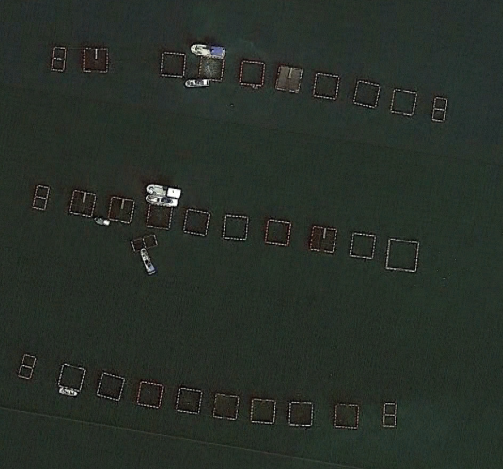ship: (134, 246, 160, 277), (186, 39, 228, 58), (144, 182, 183, 200), (140, 194, 182, 208), (182, 76, 211, 90), (92, 215, 114, 229), (56, 387, 80, 399)
square: (381, 236, 422, 277), (381, 84, 422, 120), (348, 74, 387, 110), (181, 203, 216, 242), (209, 388, 246, 424), (269, 61, 304, 97), (65, 186, 99, 222), (170, 385, 206, 419), (235, 56, 268, 92), (214, 213, 250, 246), (305, 222, 339, 256), (154, 46, 188, 79), (344, 227, 377, 261), (77, 43, 114, 73), (306, 69, 339, 102), (196, 52, 230, 84), (246, 396, 280, 428), (89, 370, 124, 401), (133, 379, 166, 411), (143, 203, 177, 234), (53, 359, 87, 390), (261, 216, 293, 248), (332, 400, 366, 430), (104, 193, 135, 225), (285, 401, 318, 430)
